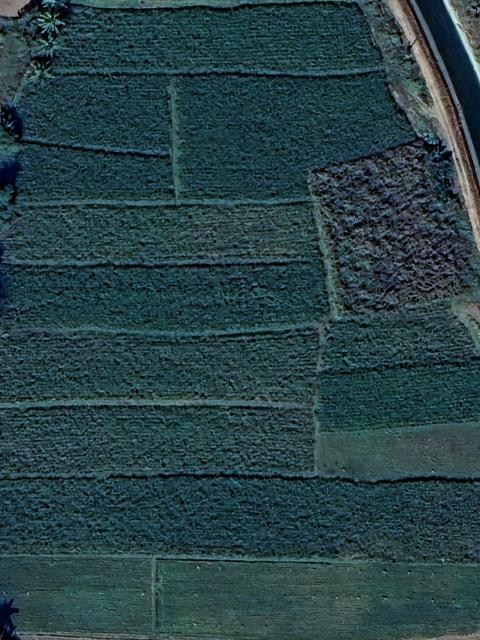Farms: (6, 471, 480, 555), (316, 122, 480, 327), (170, 67, 413, 197), (0, 330, 322, 413), (159, 557, 480, 639), (37, 2, 386, 72), (2, 406, 319, 480), (5, 261, 331, 329), (319, 298, 480, 430), (6, 200, 322, 264), (3, 74, 169, 157), (3, 555, 156, 639), (9, 139, 174, 203), (322, 423, 480, 478)
